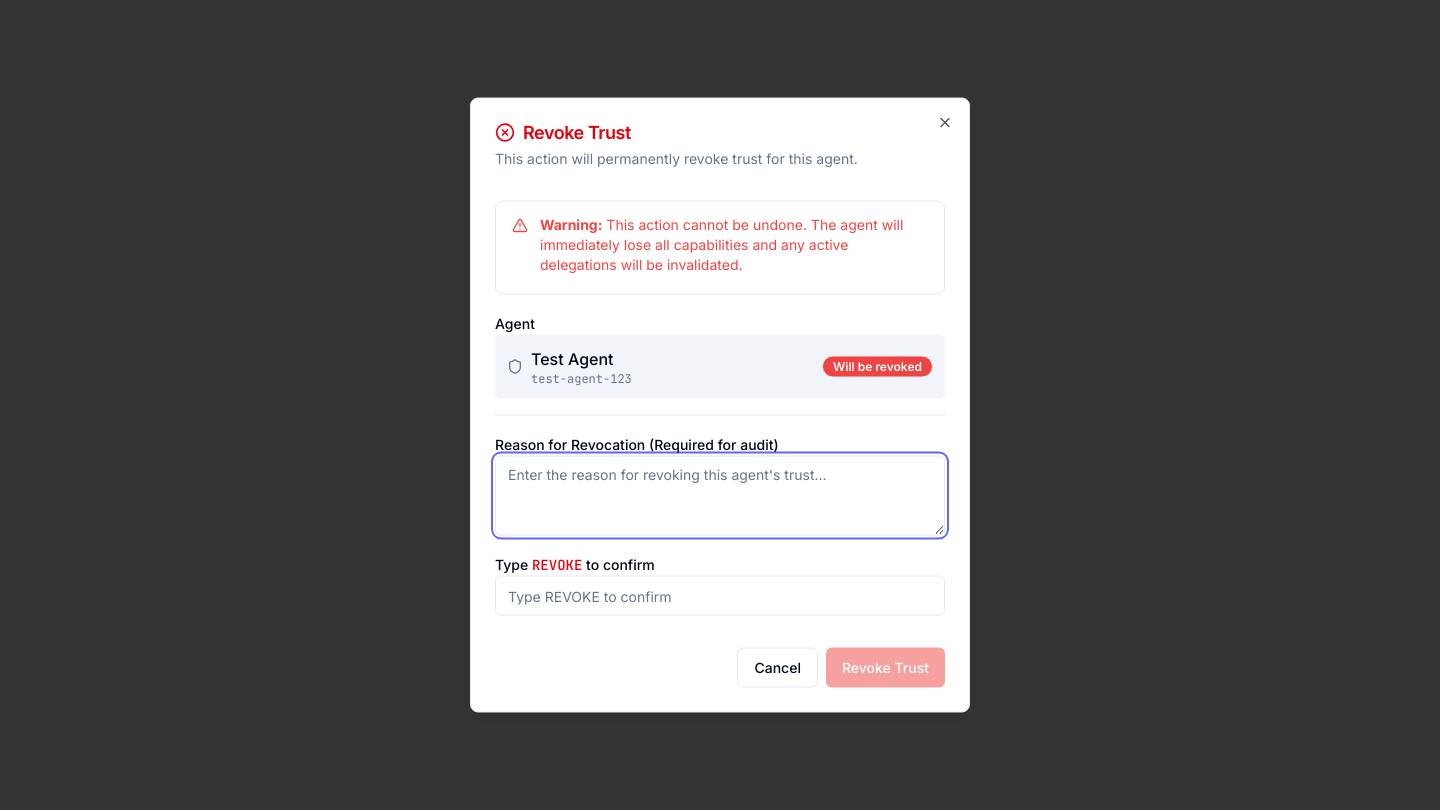
RevokeTrustDialog › shows error when confirmation text is wrong
The image size is (1440, 810).
Step 1. Type "wrong" into the field with placeholder "Type REVOKE to confirm" → (720, 596), box [495, 576, 945, 616]
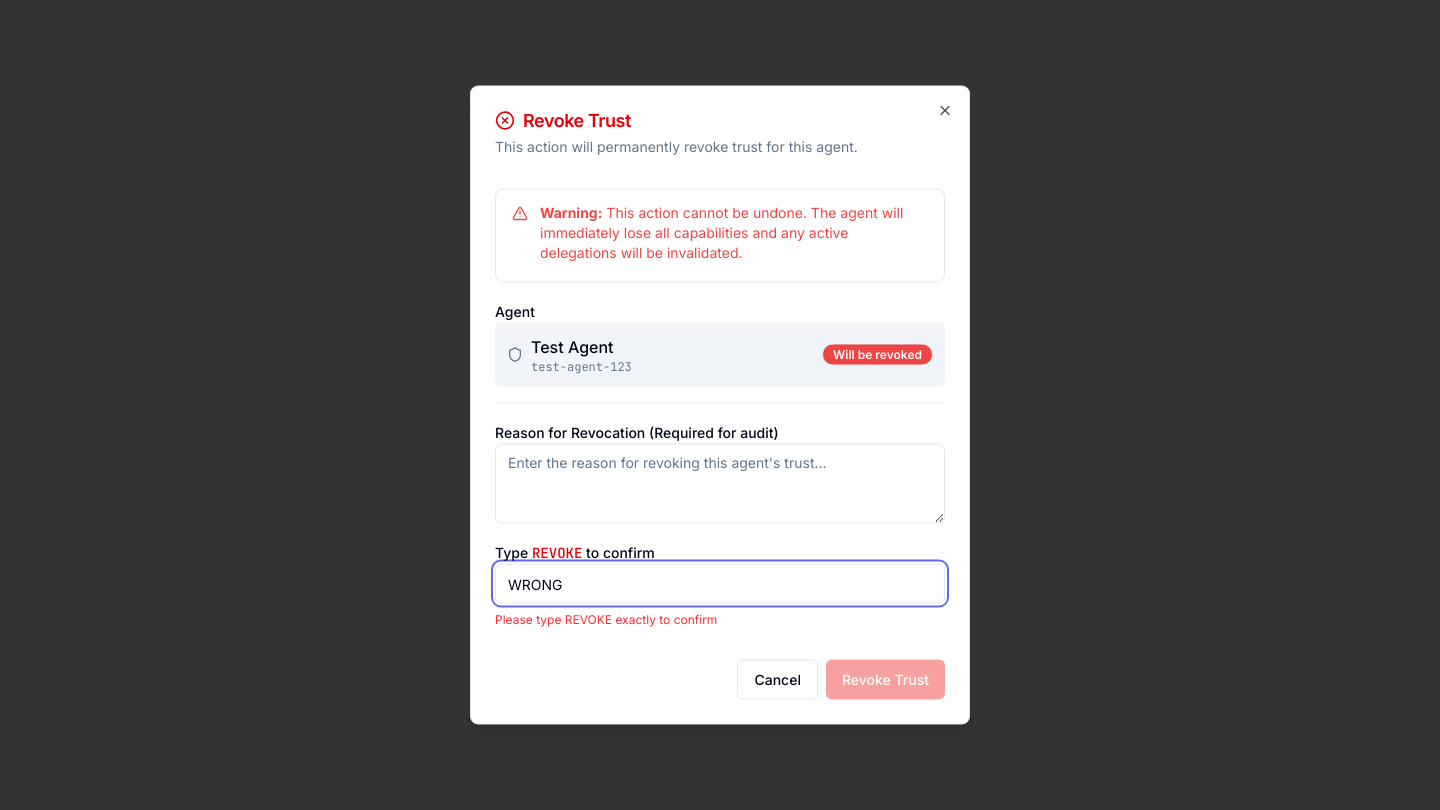
Check: the text "Please type REVOKE exactly to confirm" is shown, box [495, 612, 717, 626]
